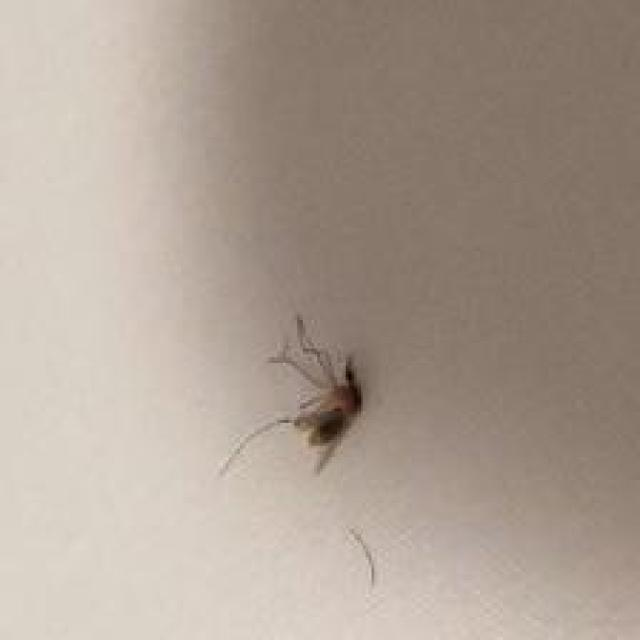Culex: (217, 310, 366, 479)
